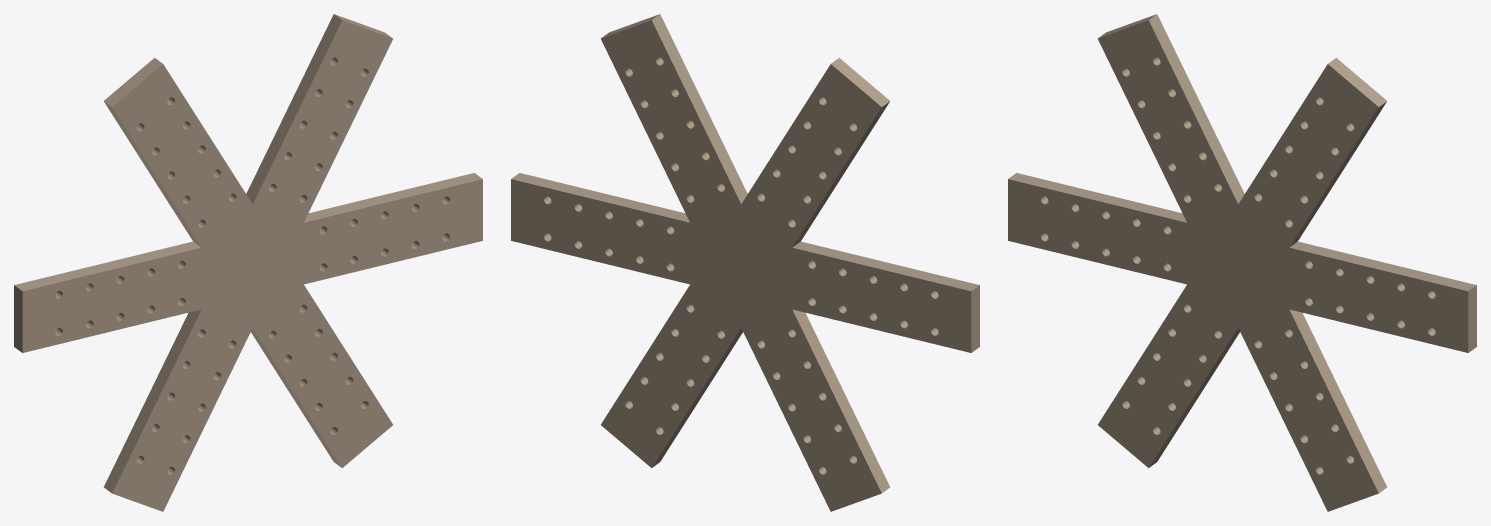
3 renders of one model, left to right at view 1: azimuth 30°, elevation 25°; view 2: azimuth 150°, elevation 25°; view 3: azimuth 330°, elevation 25°, orthographic.
Parts seen in each view (by area): view 1: P-05A_0; view 2: P-05A_0; view 3: P-05A_0.
Boxes of the visible parts, x1,y1,x2,y2 form: P-05A_0: (14,14,482,511); P-05A_0: (511,14,979,511); P-05A_0: (1008,14,1476,511).
Bounding box in the file's own units: 780 × 725 × 25.
